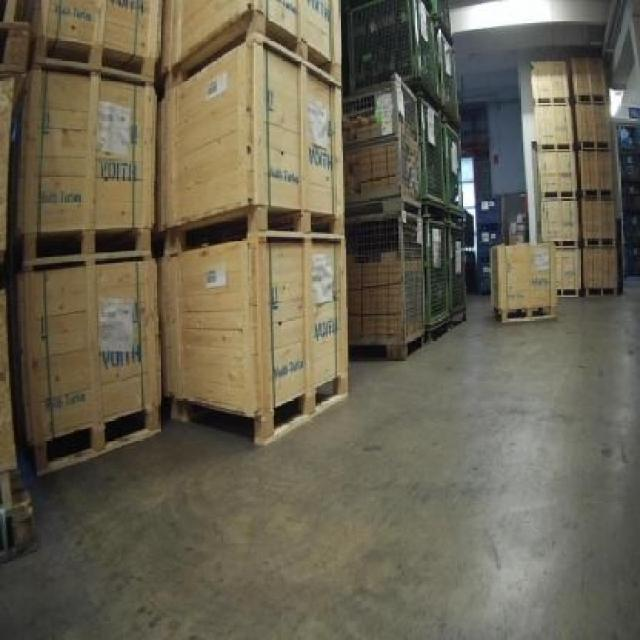floor: (0, 277, 637, 637)
pallets: (157, 0, 345, 440), (158, 231, 345, 440), (529, 55, 614, 292), (489, 245, 552, 318)
